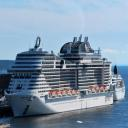cruises: (3, 34, 116, 120)
